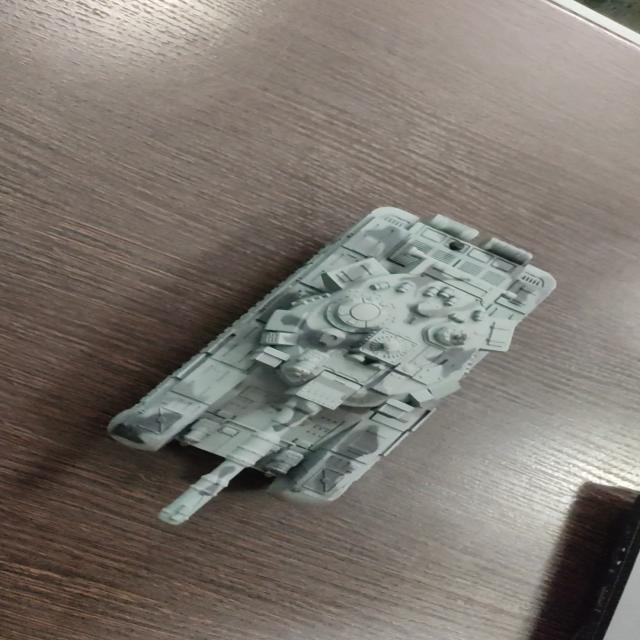tank: (90, 200, 568, 529)
